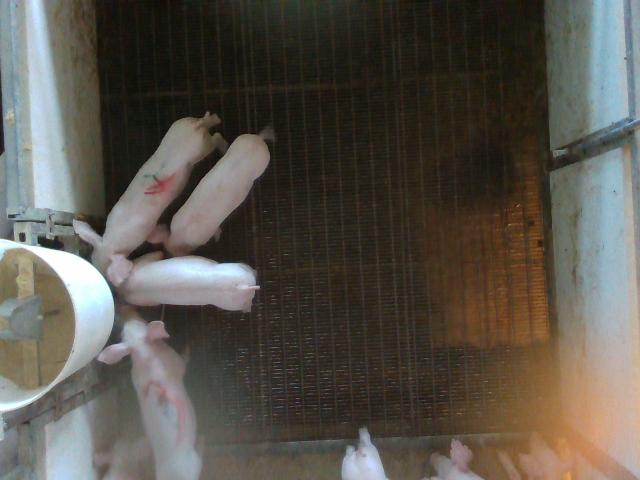pig-3: (98, 306, 201, 478)
pig-4: (74, 112, 225, 286)
